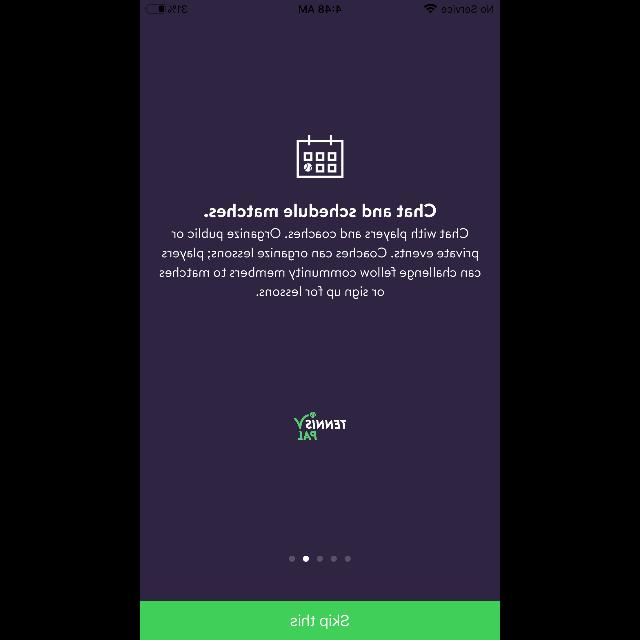image: (297, 136, 343, 178), (294, 412, 346, 440)
pageindicator: (290, 556, 350, 562)
text: (160, 228, 480, 300), (204, 204, 436, 218)
textbutton: (140, 600, 500, 640)
uppertaskbar: (140, 0, 500, 14)
